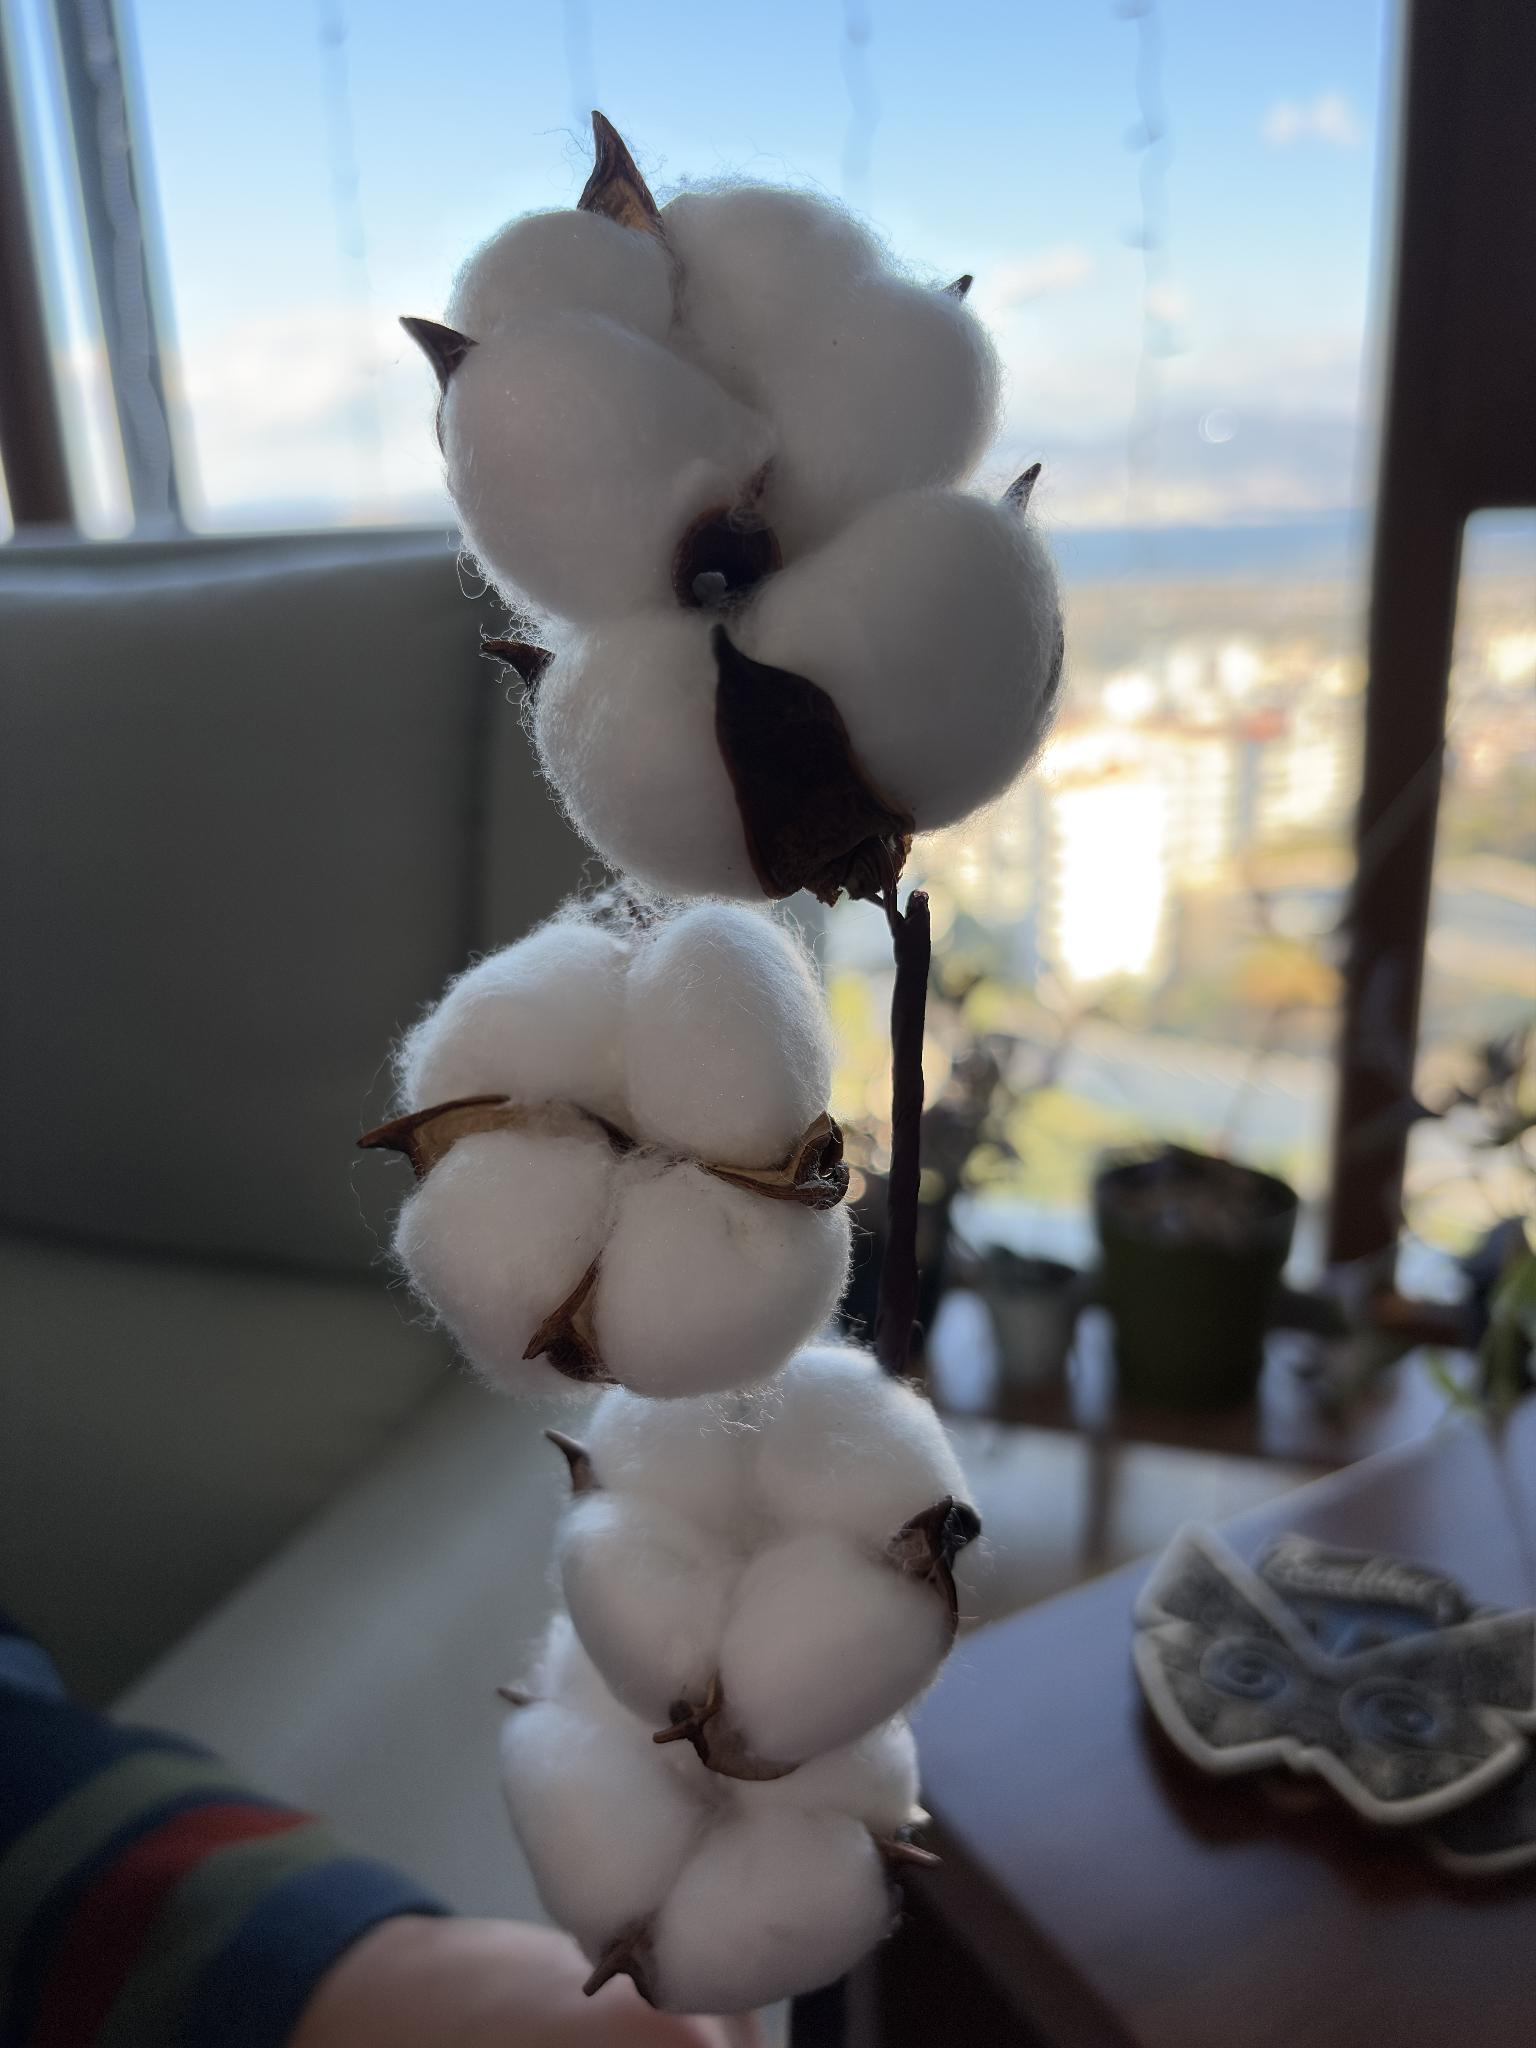cotton_boll: (736, 492, 1060, 830), (444, 313, 771, 624), (532, 606, 765, 901), (592, 1164, 849, 1398), (394, 1130, 613, 1392), (774, 284, 999, 534), (623, 905, 831, 1169), (716, 1529, 952, 1761), (502, 1698, 703, 1961), (662, 182, 889, 411), (652, 1808, 891, 2013), (400, 922, 626, 1124), (557, 1487, 739, 1725), (758, 1350, 962, 1548), (447, 210, 670, 343), (589, 1392, 762, 1543), (713, 1716, 918, 1838)
cotton_boll-cluster: (426, 164, 1079, 918), (373, 879, 858, 1408), (552, 1326, 983, 1796), (503, 1609, 934, 2008)
